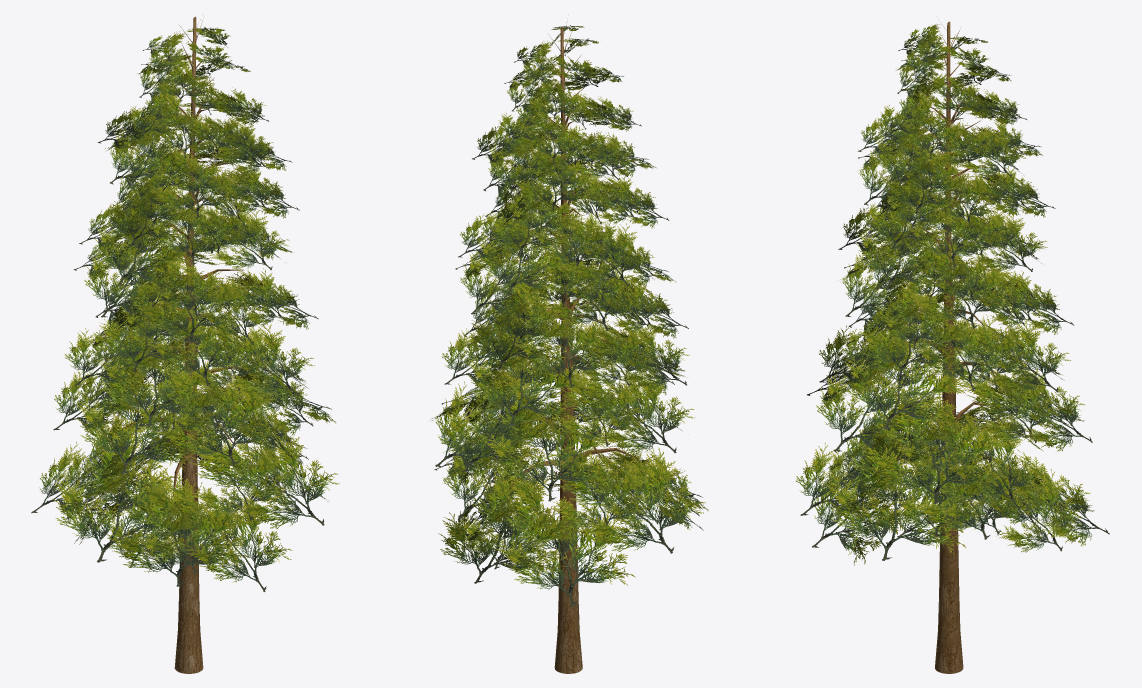
File: tall_tree.obj
3 views of the same model, side by side, from view 1: azimuth 30°, elevation 25°; view 2: azimuth 150°, elevation 25°; view 3: azimuth 270°, elevation 25° (orthographic).
Visible parts, largest first — view 1: Pine_1_3_Mesh; view 2: Pine_1_3_Mesh; view 3: Pine_1_3_Mesh.
Boxes of the visible parts, x1,y1,x2,y2 form: Pine_1_3_Mesh: (31,16,339,673); Pine_1_3_Mesh: (430,21,708,673); Pine_1_3_Mesh: (796,21,1109,673).
Size of the model in its own units: 5.12 by 10.58 by 5.29.
2 materials, 2 textured.
